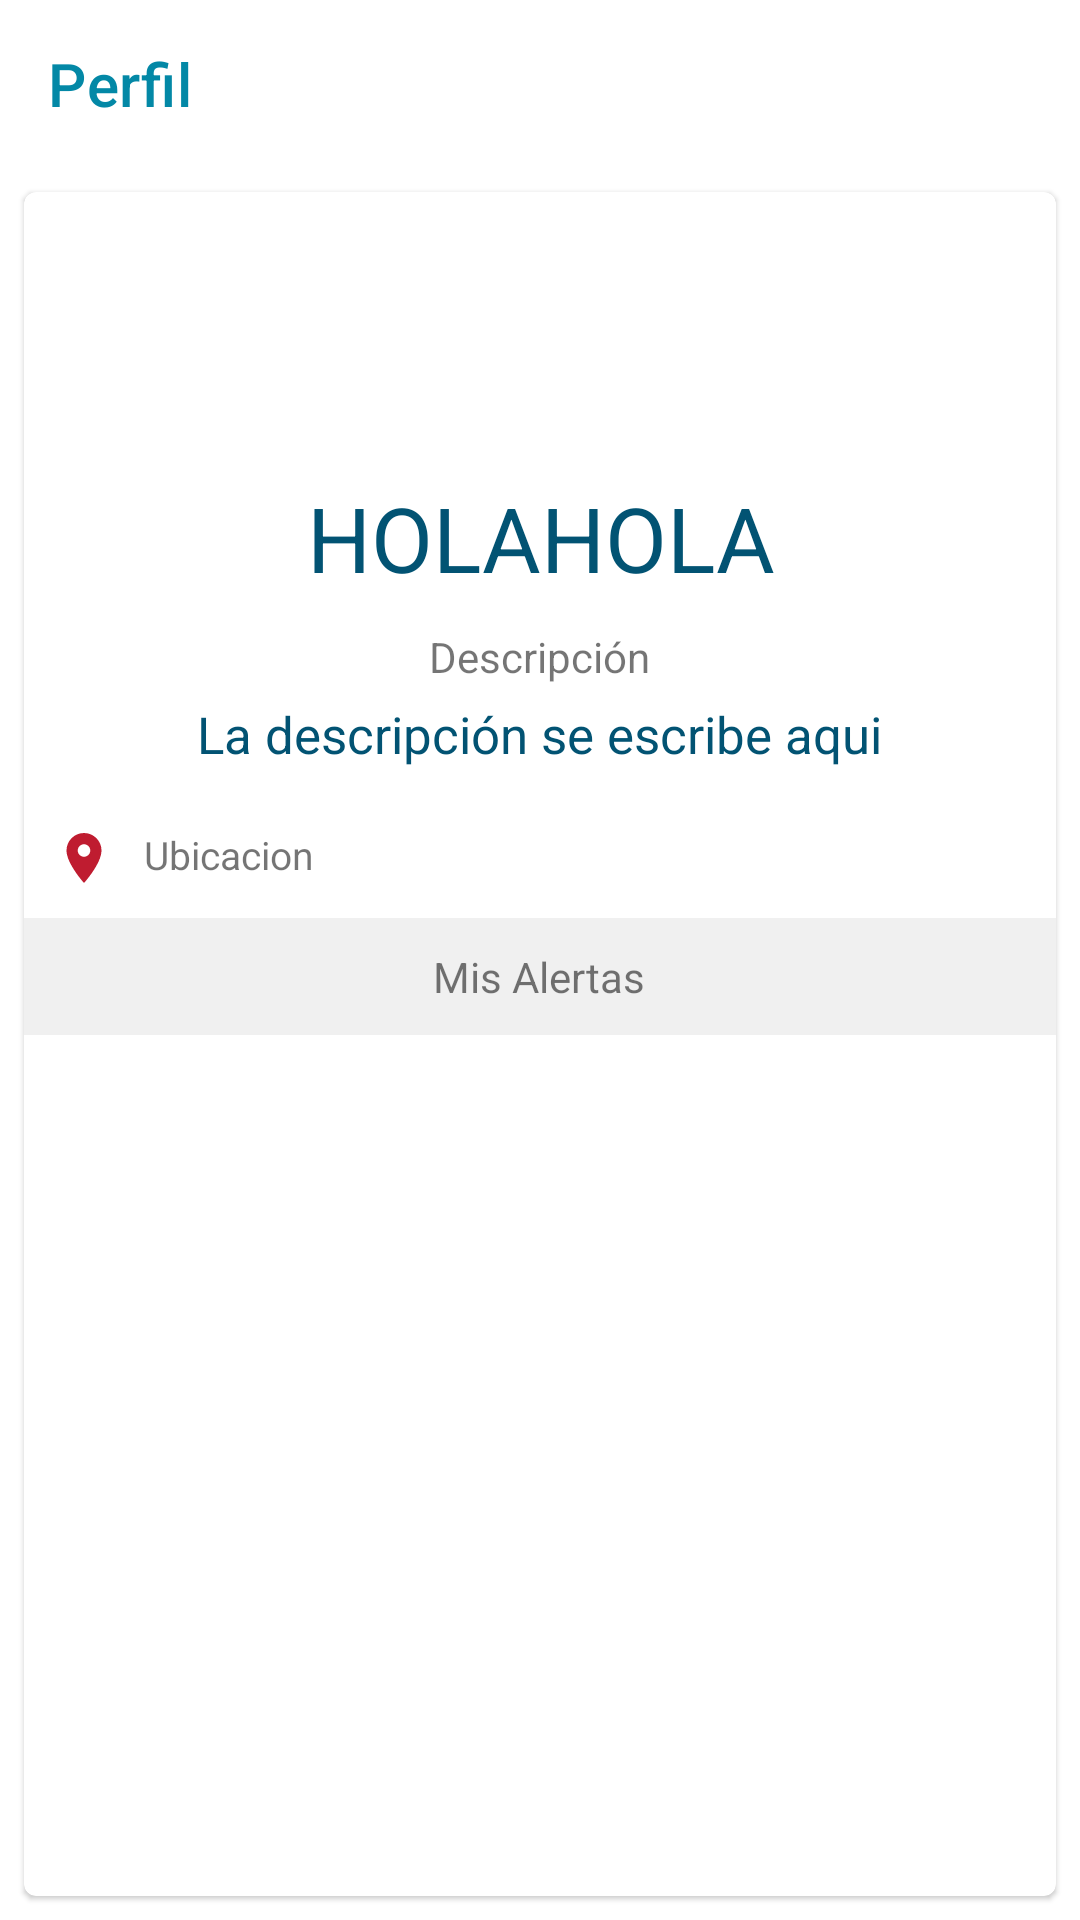

Where to tap for icons on this 1080px×1920px app screen, as [x,y]:
location on: [84,858]
